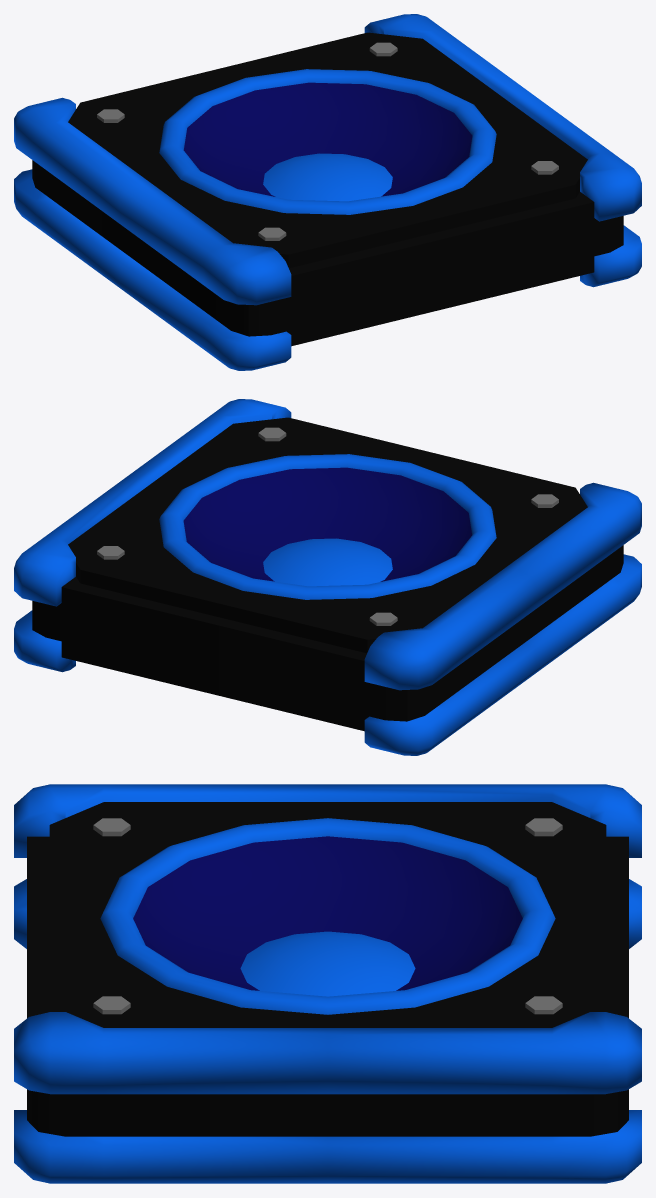
Rendered from subwoofer trambouline.fbx.
3 views of the same model, one above another, from view 1: azimuth 30°, elevation 25°; view 2: azimuth 150°, elevation 25°; view 3: azimuth 270°, elevation 25° (orthographic). The views are drawn at different scales.
Visible parts, largest first — view 1: FullSpeaker.002, Accents, Base; view 2: FullSpeaker.002, Accents, Base; view 3: FullSpeaker.002, Accents, Base.
Part boxes in pixels (left/top/right/bottom): FullSpeaker.002: left=68, top=32, right=587, bottom=268; Accents: left=14, top=14, right=641, bottom=370; Base: left=32, top=160, right=623, bottom=346; FullSpeaker.002: left=68, top=417, right=587, bottom=653; Accents: left=14, top=399, right=641, bottom=755; Base: left=32, top=545, right=623, bottom=731; FullSpeaker.002: left=49, top=802, right=606, bottom=1027; Accents: left=14, top=784, right=641, bottom=1183; Base: left=27, top=836, right=628, bottom=1136.
Bounding box in the file's own units: 0.5775 × 0.5643 × 0.1455.
